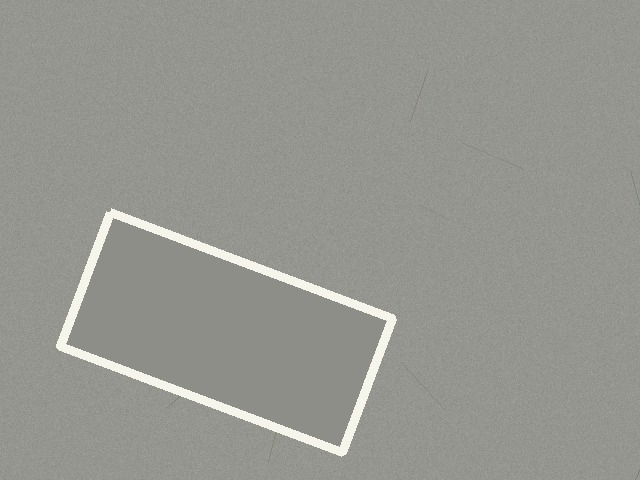parking_area: (60, 212, 392, 452)
